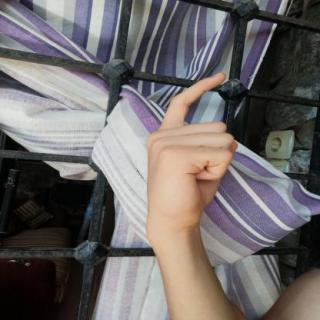RAA: (134, 64, 248, 238)
